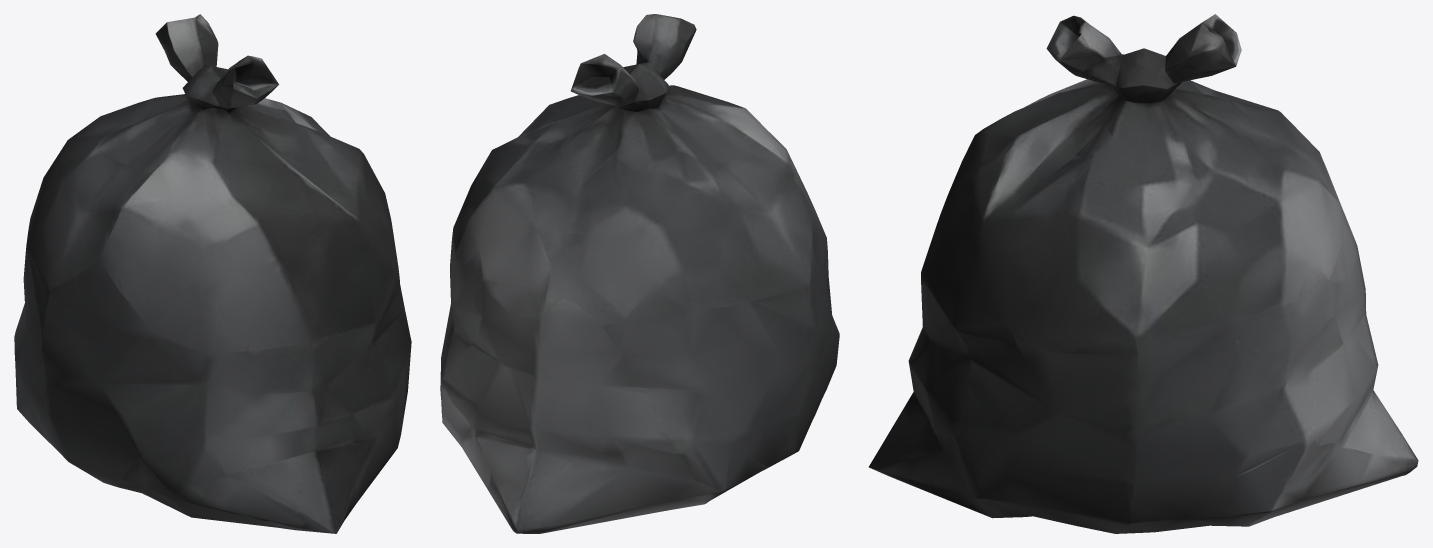
File: sacola_lixo.glb
The picture shows the model from 3 angles, left to right: view 1: azimuth 30°, elevation 25°; view 2: azimuth 150°, elevation 25°; view 3: azimuth 270°, elevation 25°; orthographic projection. The views are drawn at different scales.
Parts seen in each view (by area): view 1: tripo_node_c0ba29b8-f204-436a-88c9-ca0520b2a23c; view 2: tripo_node_c0ba29b8-f204-436a-88c9-ca0520b2a23c; view 3: tripo_node_c0ba29b8-f204-436a-88c9-ca0520b2a23c.
Boxes of the visible parts, x1,y1,x2,y2 form: tripo_node_c0ba29b8-f204-436a-88c9-ca0520b2a23c: [14, 14, 411, 533]; tripo_node_c0ba29b8-f204-436a-88c9-ca0520b2a23c: [440, 14, 839, 533]; tripo_node_c0ba29b8-f204-436a-88c9-ca0520b2a23c: [869, 14, 1418, 533].
Bounding box in the file's own units: 0.7958 × 0.9065 × 0.9918.
Materials: 1 (1 with a texture image).
